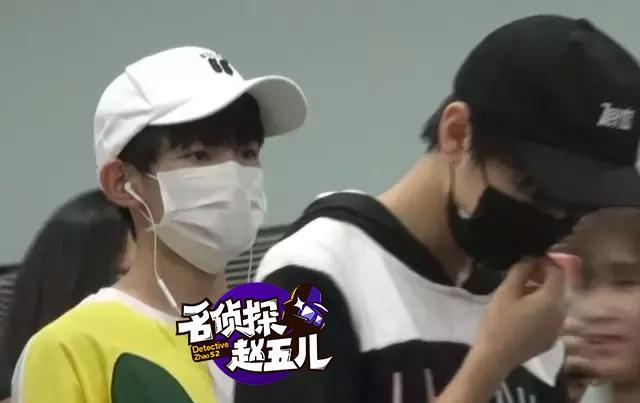NONE: (572, 256, 640, 376)
OK: (461, 143, 591, 268), (140, 135, 266, 261)
